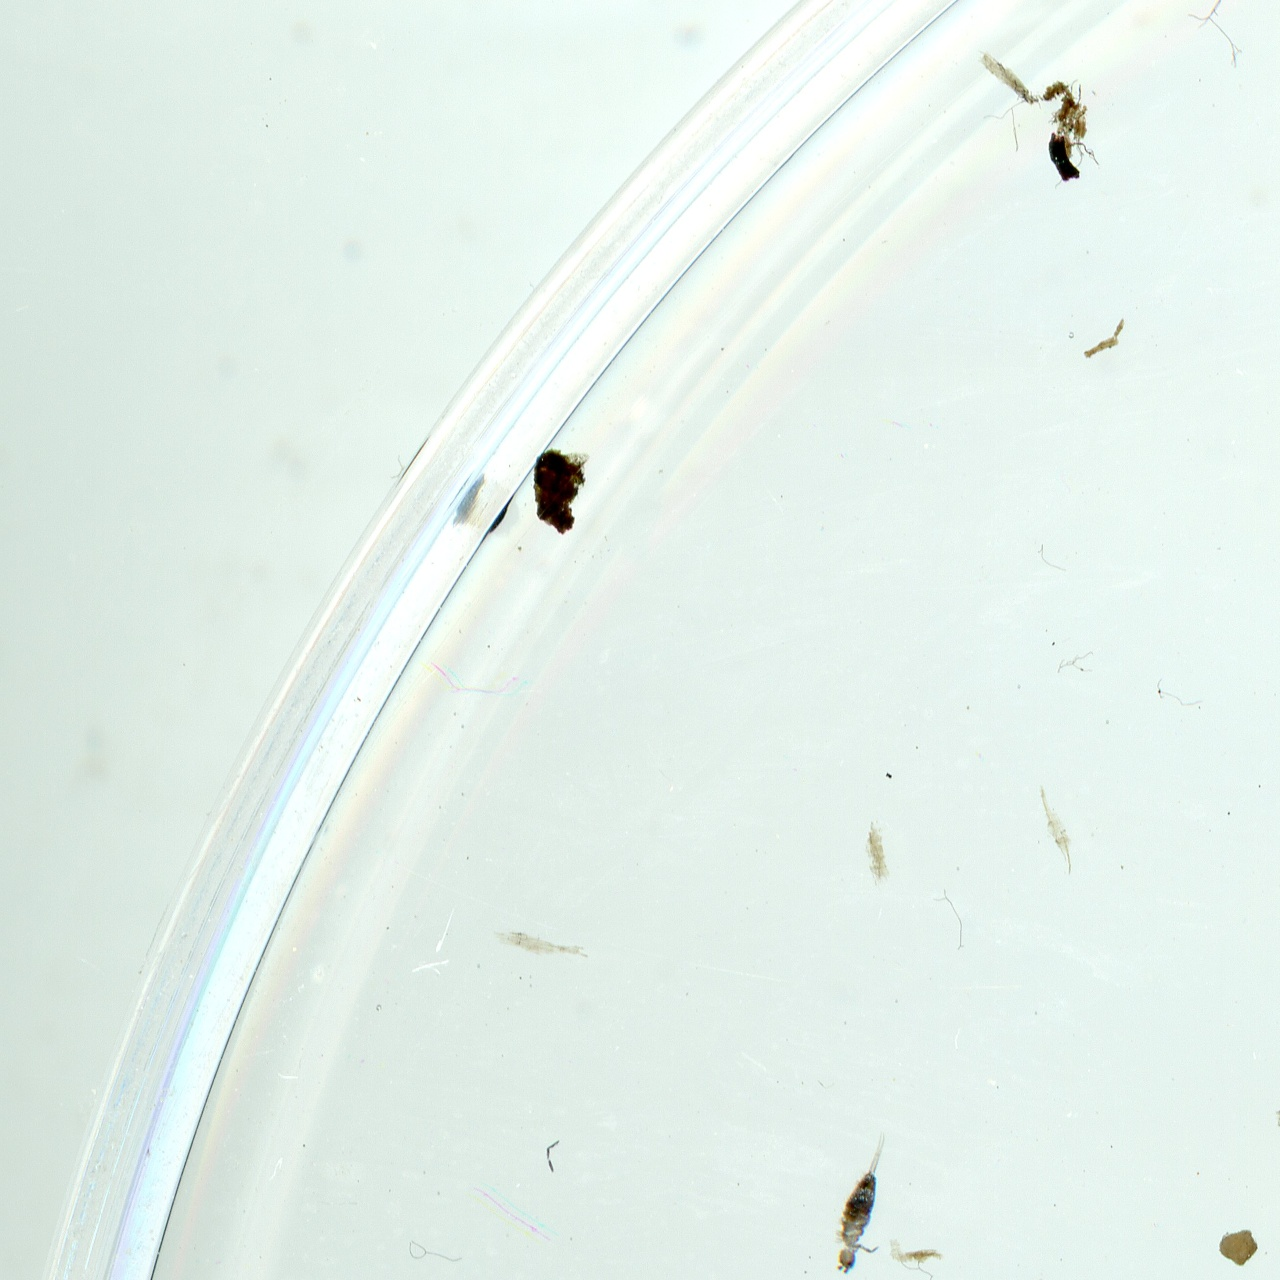arthropod: (819, 1118, 913, 1280)
